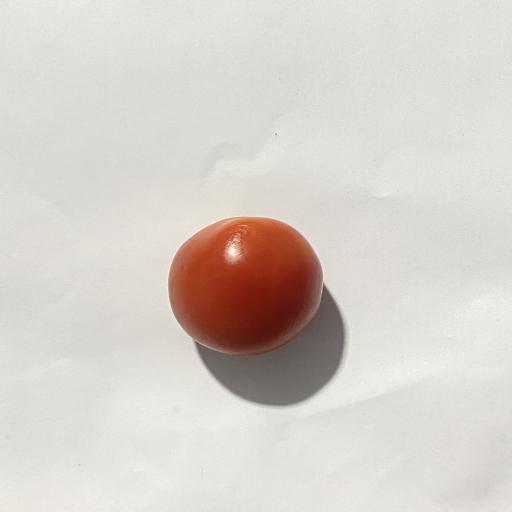ripe: (168, 217, 323, 355)
